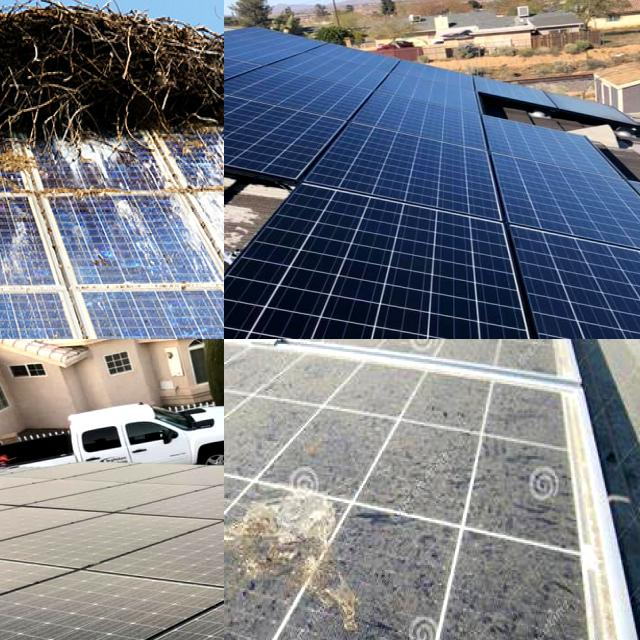bird: (224, 474, 391, 640), (52, 132, 168, 258), (0, 138, 69, 272), (180, 133, 224, 288), (0, 147, 68, 193), (0, 212, 39, 280)
crack: (224, 168, 574, 339), (224, 6, 453, 190), (326, 62, 508, 207), (478, 208, 640, 339)
